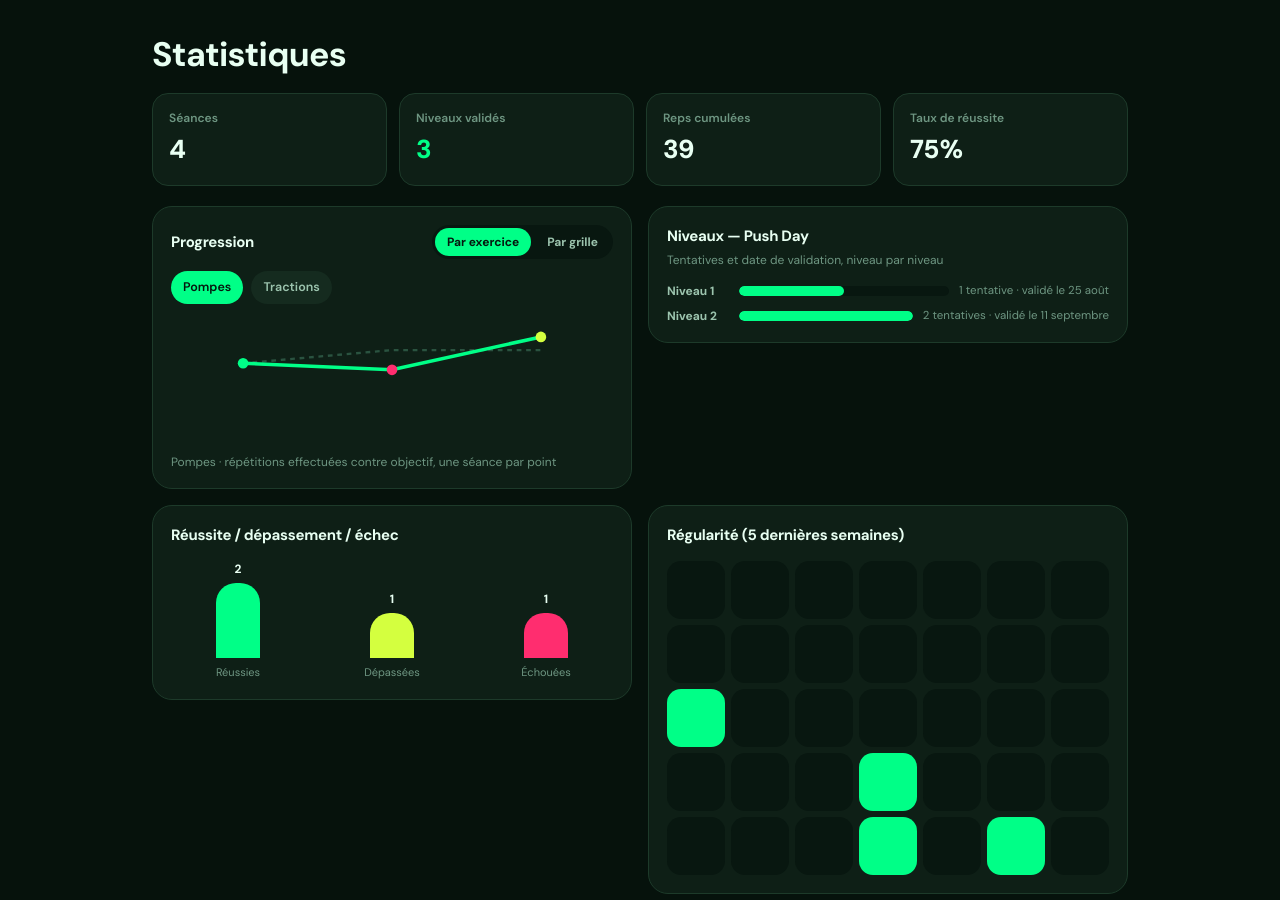
Test case: bascule de progression › passe par grille et change les puces comme le graphique
Click the button "Par grille": (573, 242) [535,228,610,256]
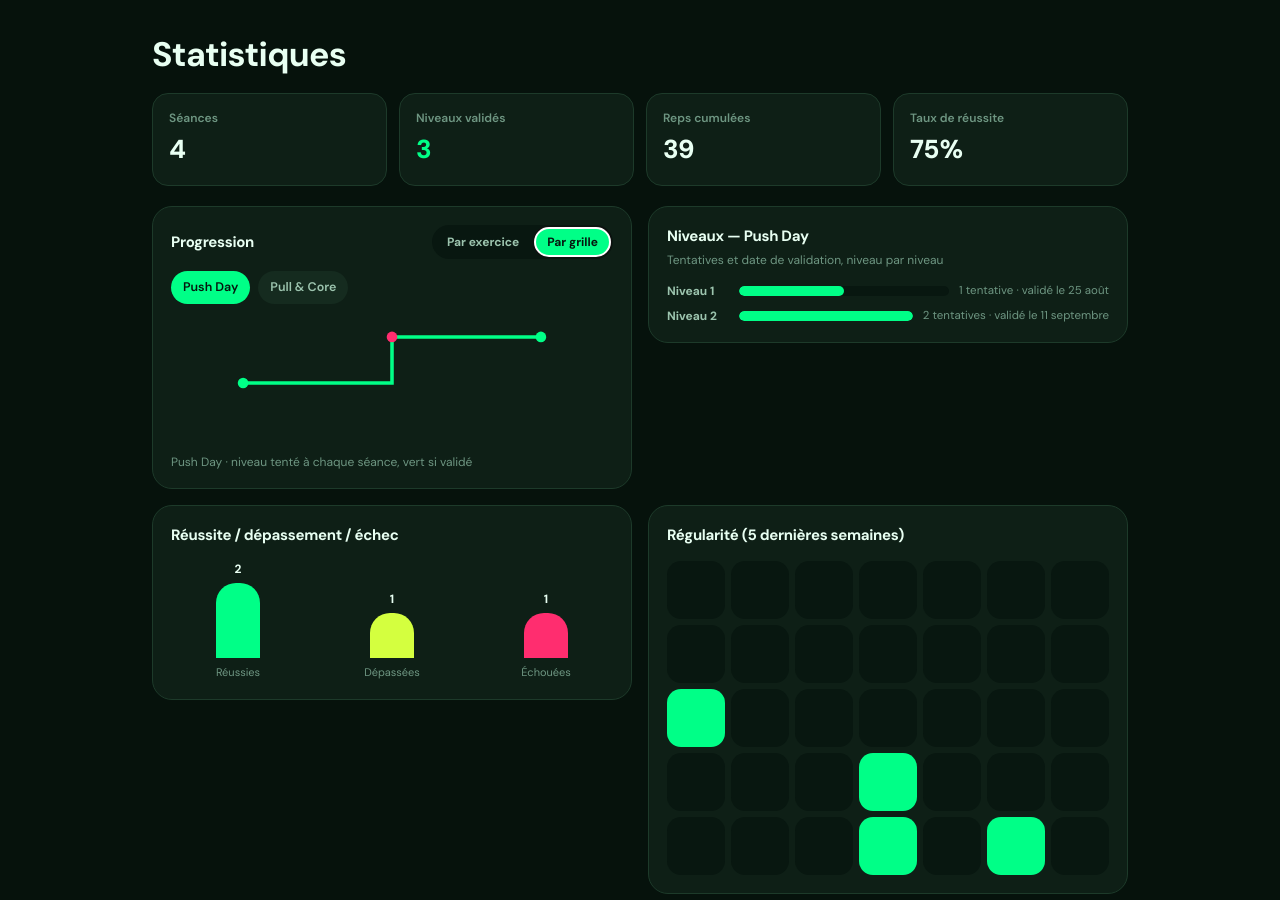
Now the button "Push Day" is shown, box [171,271,250,304]
Now the button "Pompes" is gone
Now the picture named "Niveau atteint sur Push Day, 3 séances" is shown, box [171,318,613,448]
